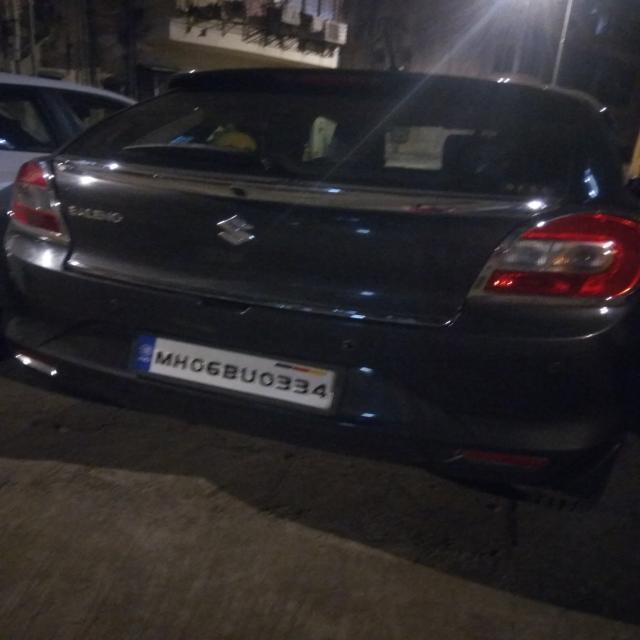Number-Plate: (145, 340, 331, 404)
